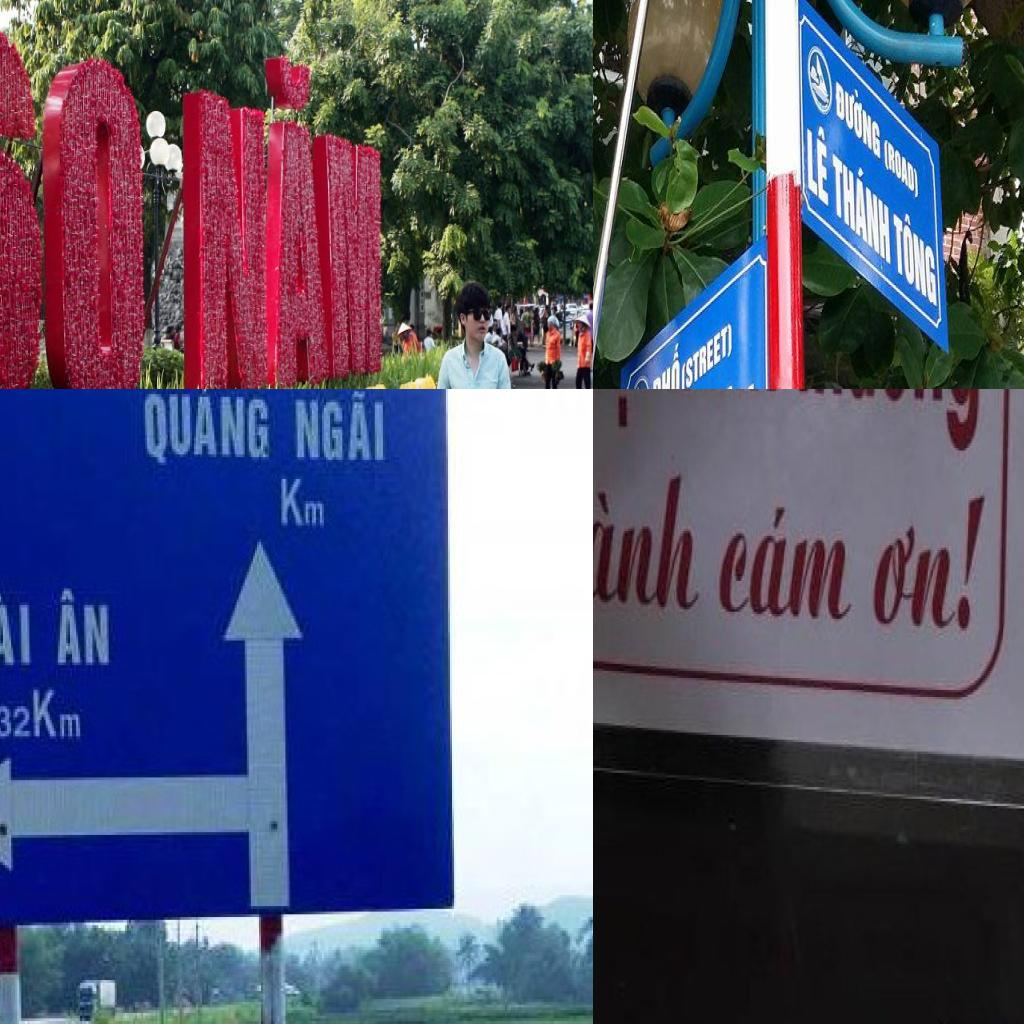text: (180, 44, 392, 389), (0, 1, 157, 389), (593, 460, 710, 614), (716, 498, 860, 623), (790, 389, 986, 460), (139, 389, 271, 465), (829, 142, 893, 272), (293, 389, 389, 465), (891, 198, 938, 312), (54, 583, 113, 665), (834, 63, 882, 163), (681, 321, 734, 389), (279, 474, 328, 528), (0, 588, 33, 667), (882, 138, 920, 206), (806, 114, 831, 212), (650, 336, 683, 389)
